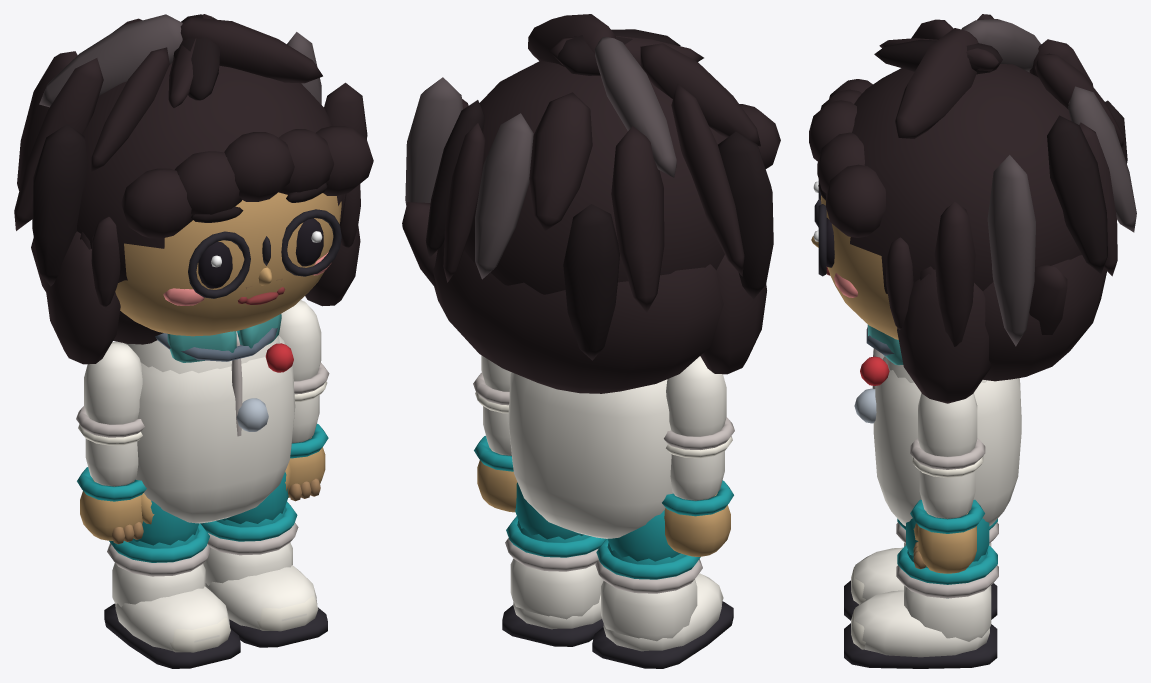
The model's file is pip.glb.
3 views of the same model, side by side, from view 1: azimuth 30°, elevation 25°; view 2: azimuth 150°, elevation 25°; view 3: azimuth 270°, elevation 25° (orthographic). The views are drawn at different scales.
Visible parts, largest first — view 1: hair, torso, head, shin_r, shin_l, arm_r, arm_l, glasses, hand_r, leg_r, hand_l, leg_l (+2 smaller); view 2: hair, torso, shin_r, shin_l, arm_r, arm_l, hand_r, leg_r, leg_l, hand_l; view 3: hair, shin_l, torso, arm_l, head, shin_r, hand_l, leg_l, glasses.
Boxes of the visible parts, x1,y1,x2,y2 form: hair: (14, 14, 373, 364); torso: (125, 314, 295, 523); head: (115, 182, 341, 336); shin_r: (104, 523, 240, 668); shin_l: (200, 501, 327, 647); arm_r: (76, 341, 146, 501); arm_l: (279, 300, 329, 458); glasses: (188, 209, 341, 298); hand_r: (80, 479, 154, 544); leg_r: (128, 501, 199, 548); hand_l: (285, 437, 325, 501); leg_l: (216, 472, 288, 527); hair: (402, 14, 780, 393); torso: (508, 372, 674, 538); shin_r: (592, 539, 733, 668); shin_l: (502, 516, 605, 646); arm_r: (662, 356, 734, 516); arm_l: (473, 355, 513, 471); hand_r: (664, 493, 730, 556); leg_r: (607, 510, 685, 564); leg_l: (515, 482, 590, 542); hand_l: (477, 450, 517, 512); hair: (809, 14, 1136, 403); shin_l: (844, 545, 998, 668); torso: (854, 324, 1021, 526); arm_l: (910, 393, 985, 533); head: (811, 182, 898, 339); shin_r: (844, 518, 998, 620); hand_l: (913, 512, 976, 573); leg_l: (906, 518, 989, 567); glasses: (814, 179, 826, 276).
Size of the model in its own units: 0.5738 by 0.981 by 0.4853.
Materials: 1 (1 with a texture image).
